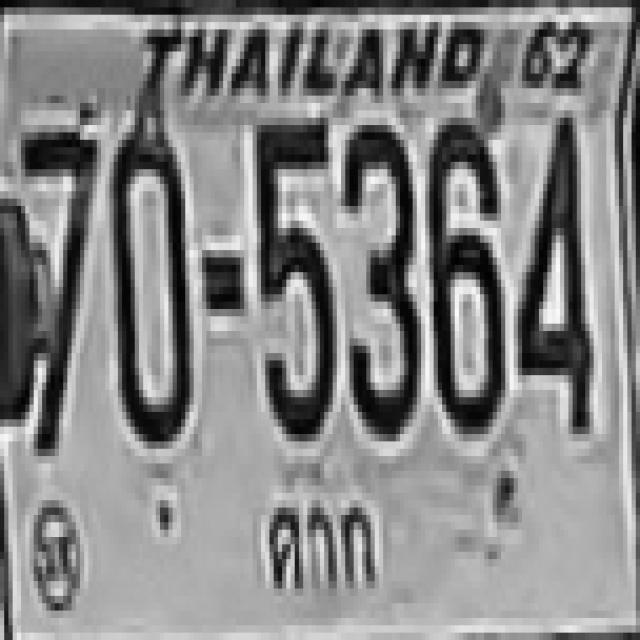0: (110, 125, 190, 441)
3: (341, 118, 417, 434)
4: (514, 110, 590, 427)
5: (252, 110, 332, 434)
6: (425, 114, 501, 430)
7: (21, 125, 97, 449)
Tak: (250, 484, 391, 606)
